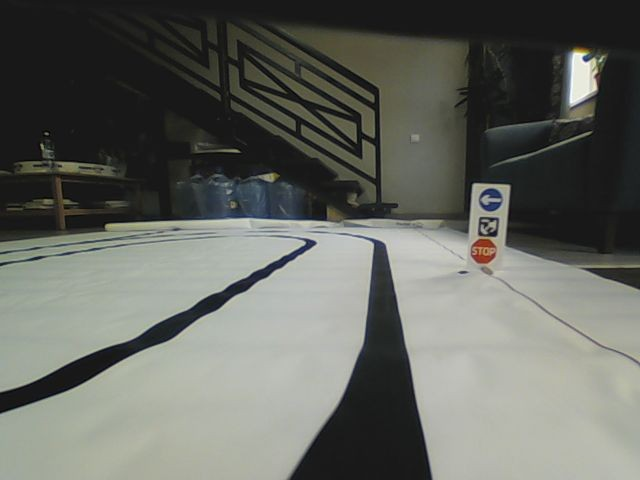Stop: (470, 238, 497, 262)
